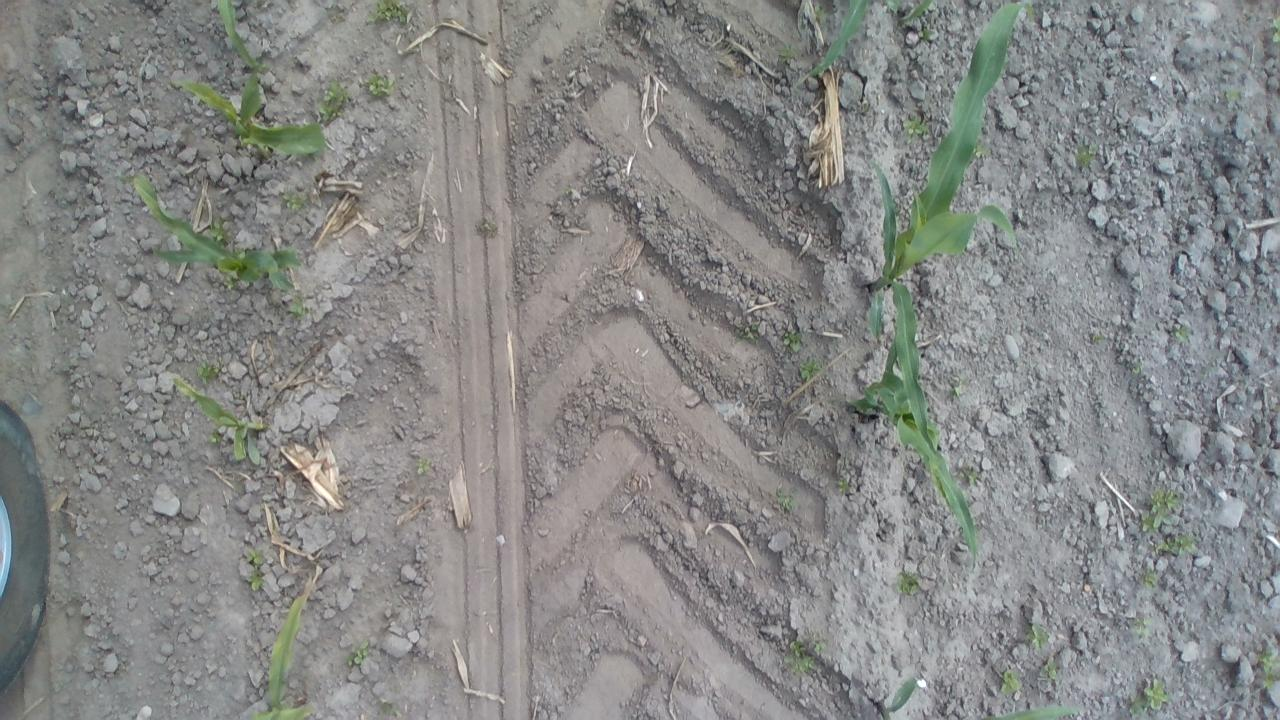Maize: (866, 1, 1036, 453), (847, 304, 989, 576), (128, 171, 310, 290), (172, 72, 332, 160), (788, 3, 929, 86), (246, 573, 324, 720), (166, 373, 272, 466), (864, 681, 1098, 720), (213, 0, 270, 73)
Weeds: (1124, 672, 1171, 718), (784, 634, 830, 676), (1140, 483, 1183, 527), (314, 78, 352, 126), (1148, 522, 1194, 556), (240, 546, 270, 596), (274, 284, 312, 322), (366, 1, 412, 28), (1132, 564, 1168, 598), (1127, 606, 1156, 646), (362, 66, 396, 98), (1256, 642, 1280, 687), (190, 357, 222, 390), (1069, 138, 1102, 169), (889, 568, 922, 598), (898, 109, 931, 138), (731, 315, 760, 348), (971, 136, 1002, 166), (772, 483, 802, 514), (1024, 622, 1054, 652), (779, 324, 809, 354), (832, 474, 859, 505), (279, 188, 313, 212), (343, 638, 367, 670), (953, 460, 982, 486), (470, 211, 498, 237), (794, 352, 820, 380), (947, 372, 968, 406), (774, 41, 798, 70), (998, 667, 1022, 695), (1172, 321, 1194, 350), (208, 216, 230, 243), (1038, 654, 1057, 681), (414, 456, 434, 481), (206, 430, 228, 452), (1124, 359, 1144, 381), (1224, 85, 1242, 106), (1088, 327, 1105, 348), (1268, 13, 1280, 42)
